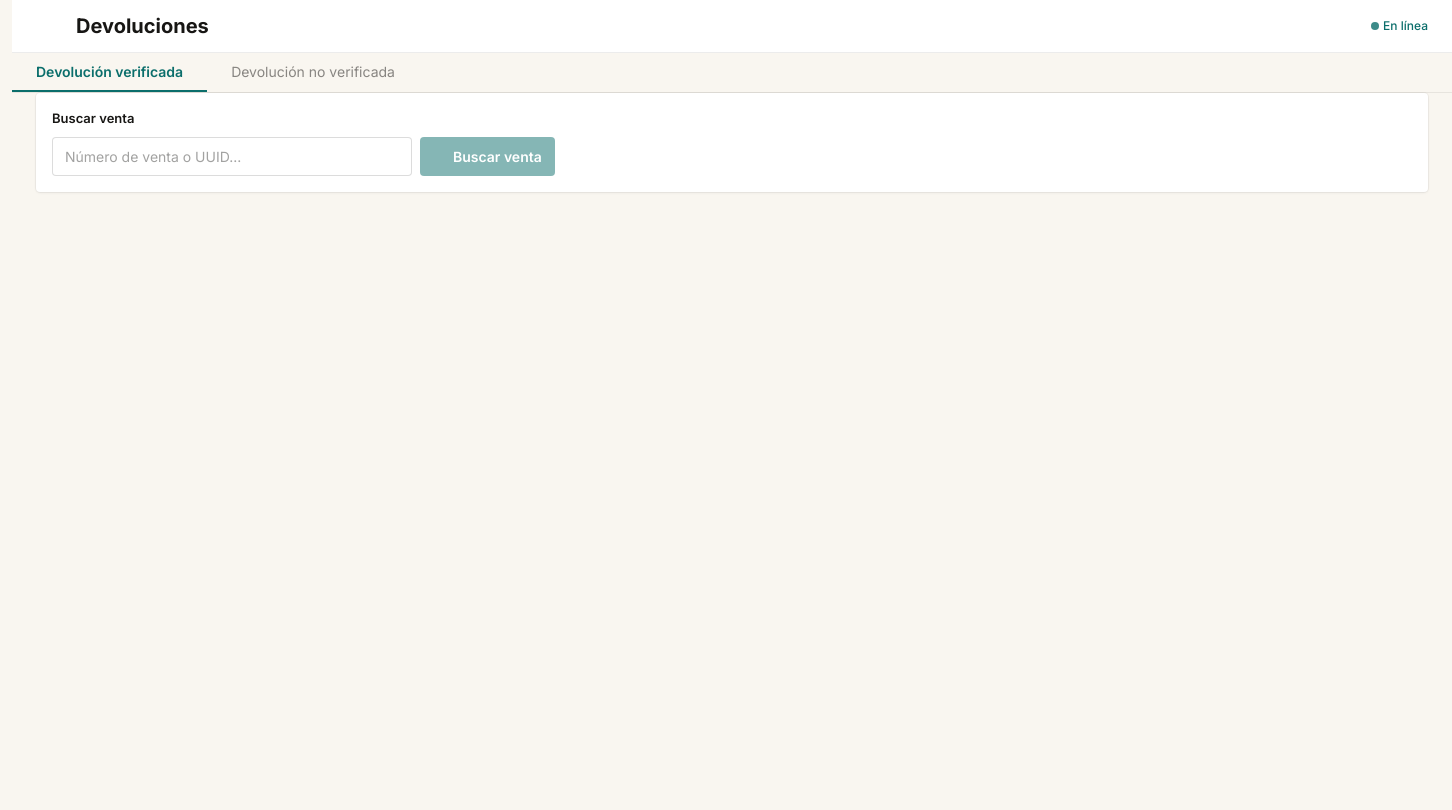
Test: ReturnsPage › RETP-06: unverified requires PIN › disables the submit until a 4-digit PIN is entered
Step 1. Click the tab "Devolución no verificada" → click(313, 72), box [207, 53, 419, 92]
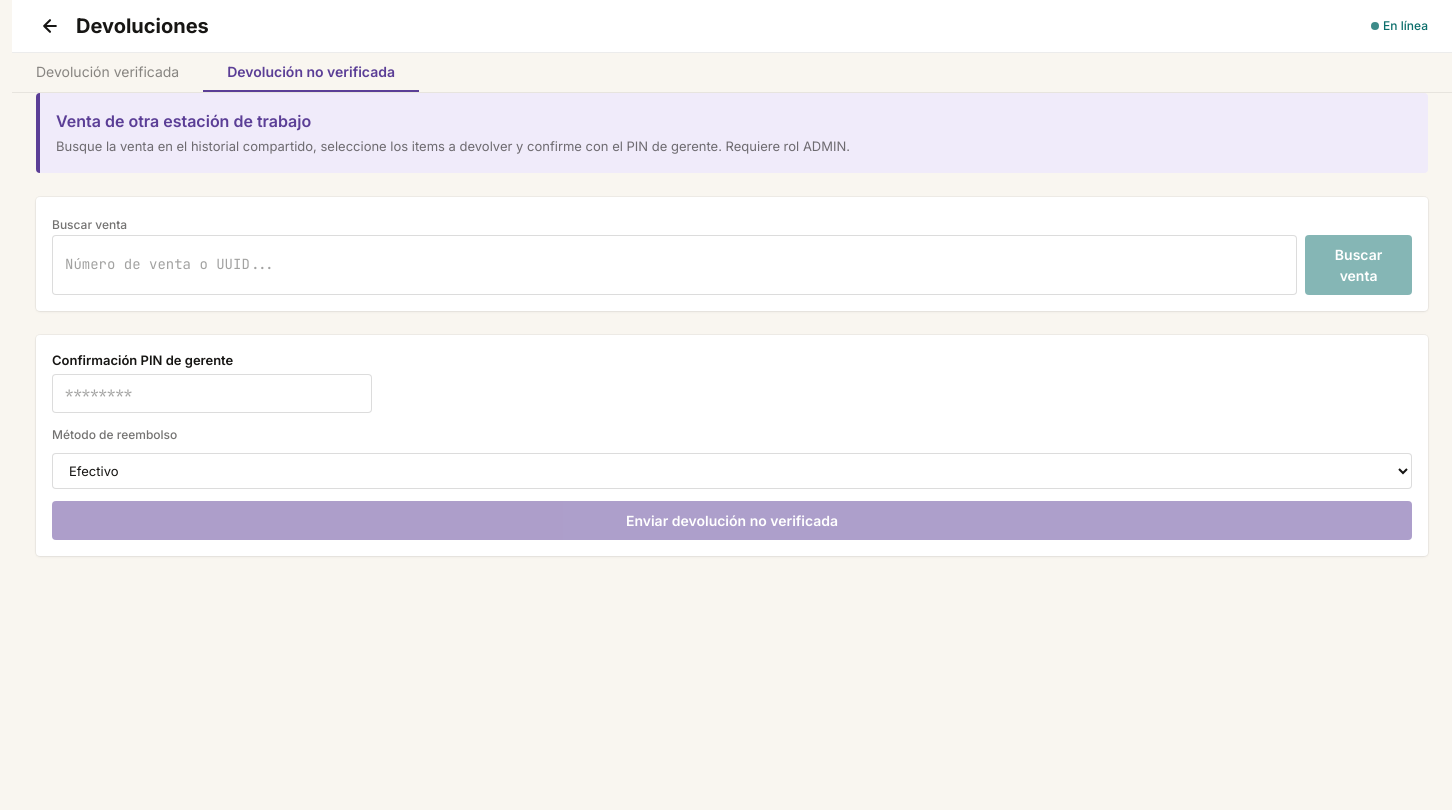
// Find the sale and select its item
Step 2. Type "42" into the field with placeholder "Número de venta o UUID..." → (674, 264), box [52, 234, 1297, 294]
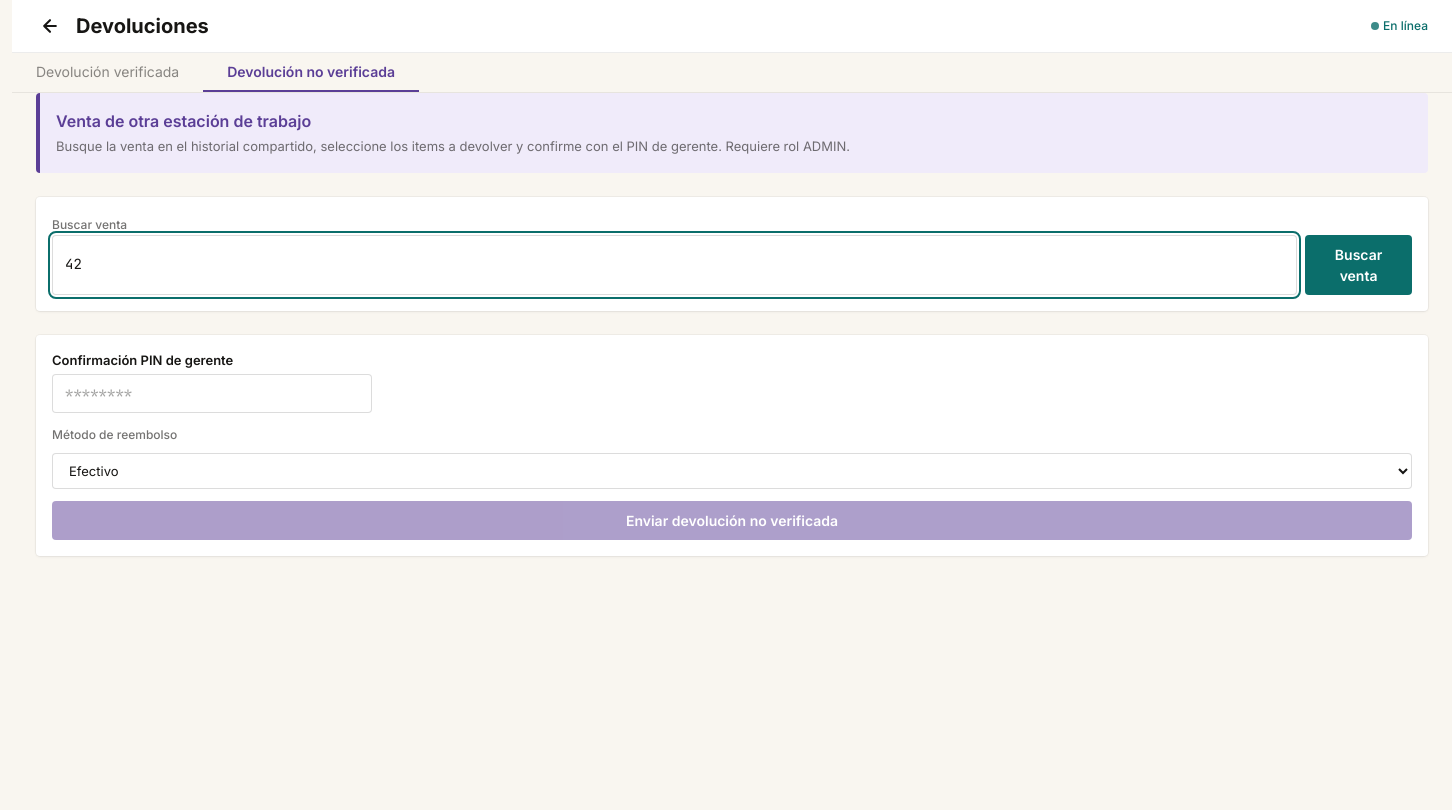
Step 3. Click the button "Buscar venta" → click(1358, 264), box [1305, 234, 1412, 294]
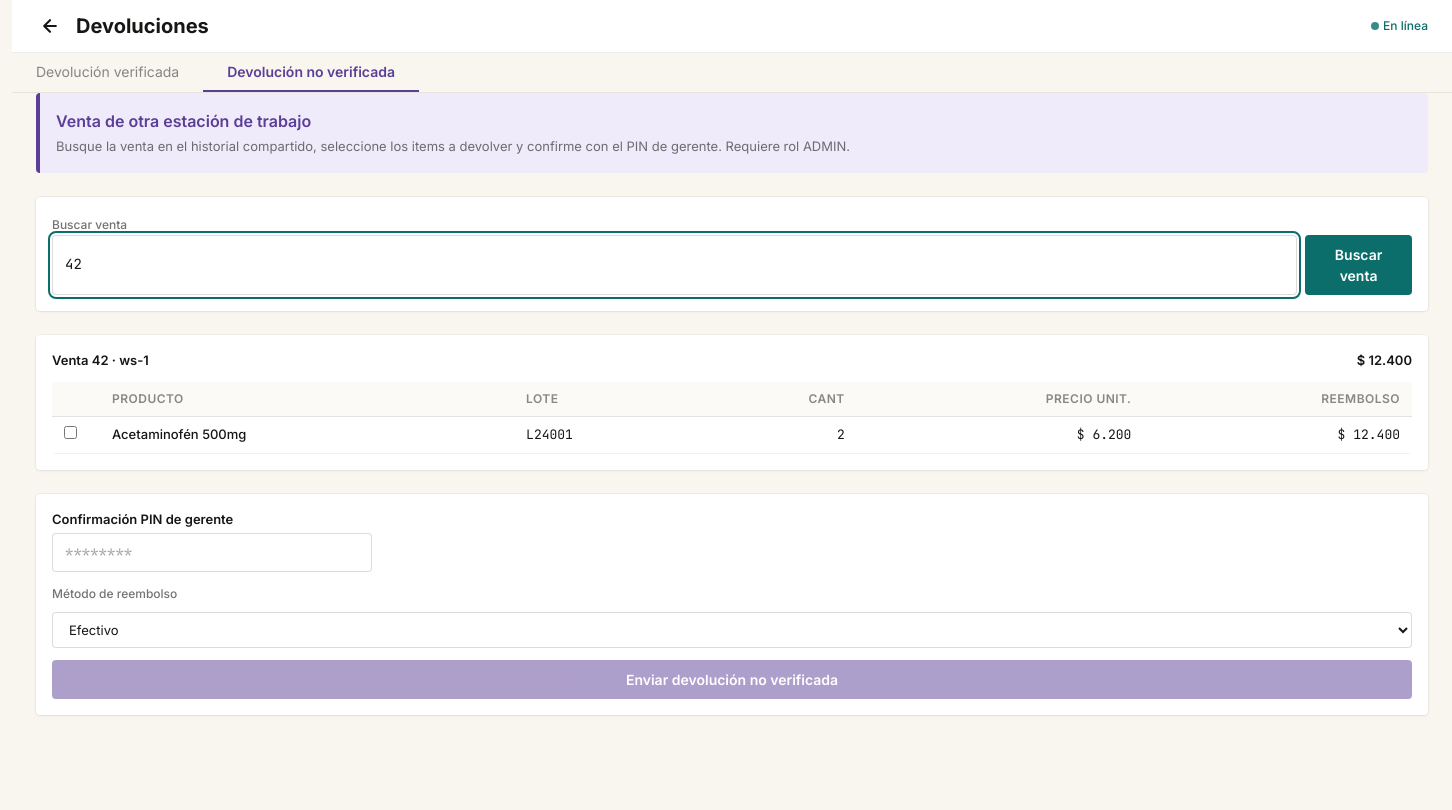
Expected: the checkbox named "Seleccionar item: Acetaminofén 500mg" is shown
Step 4. Click the checkbox named "Seleccionar item: Acetaminofén 500mg" → click(70, 432), box [64, 426, 77, 439]
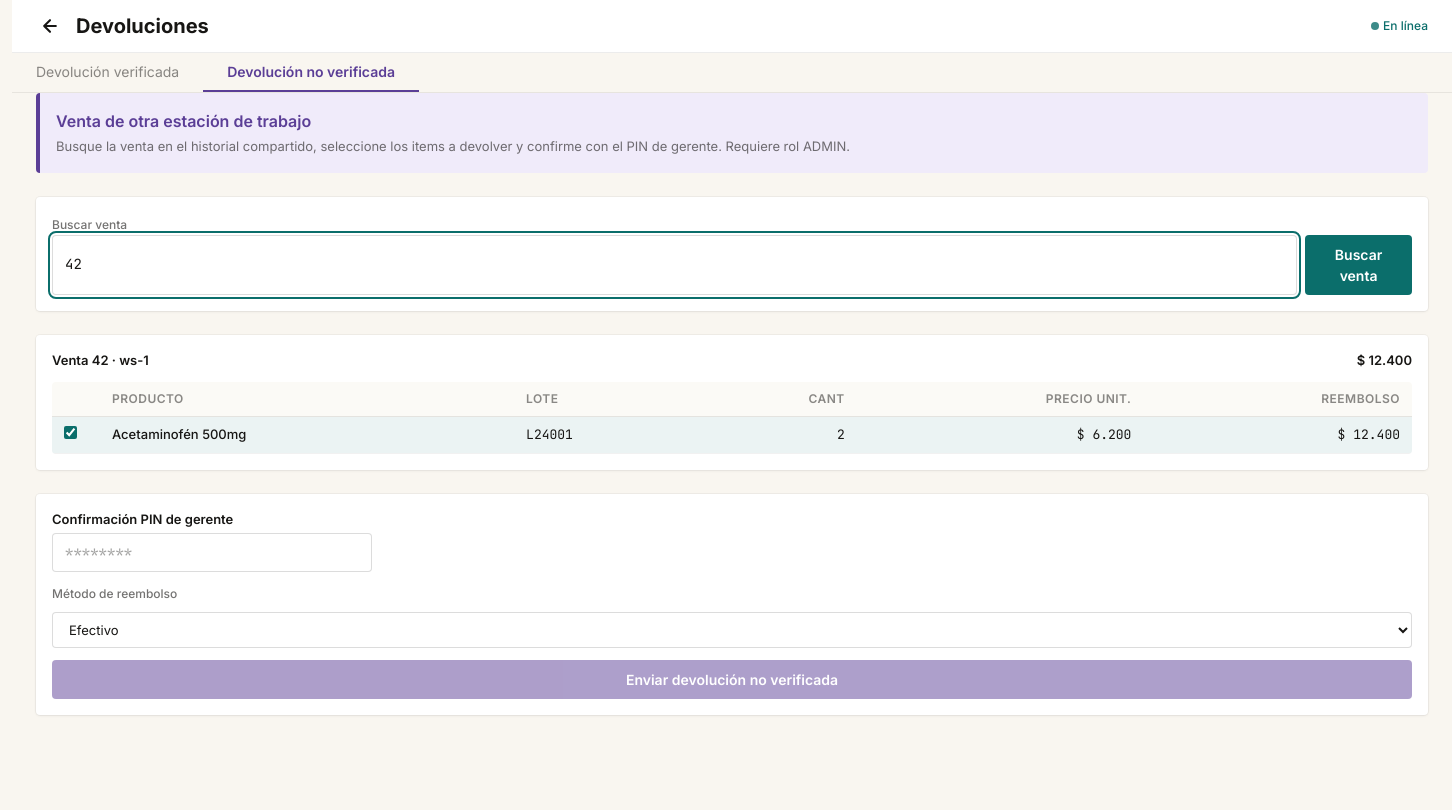
Expected: the button "Enviar devolución no verificada" is disabled, [52, 660, 1412, 699]
Step 5. Type "12" into the password field labelled "Confirmación PIN de gerente" → (212, 552), box [52, 533, 372, 572]
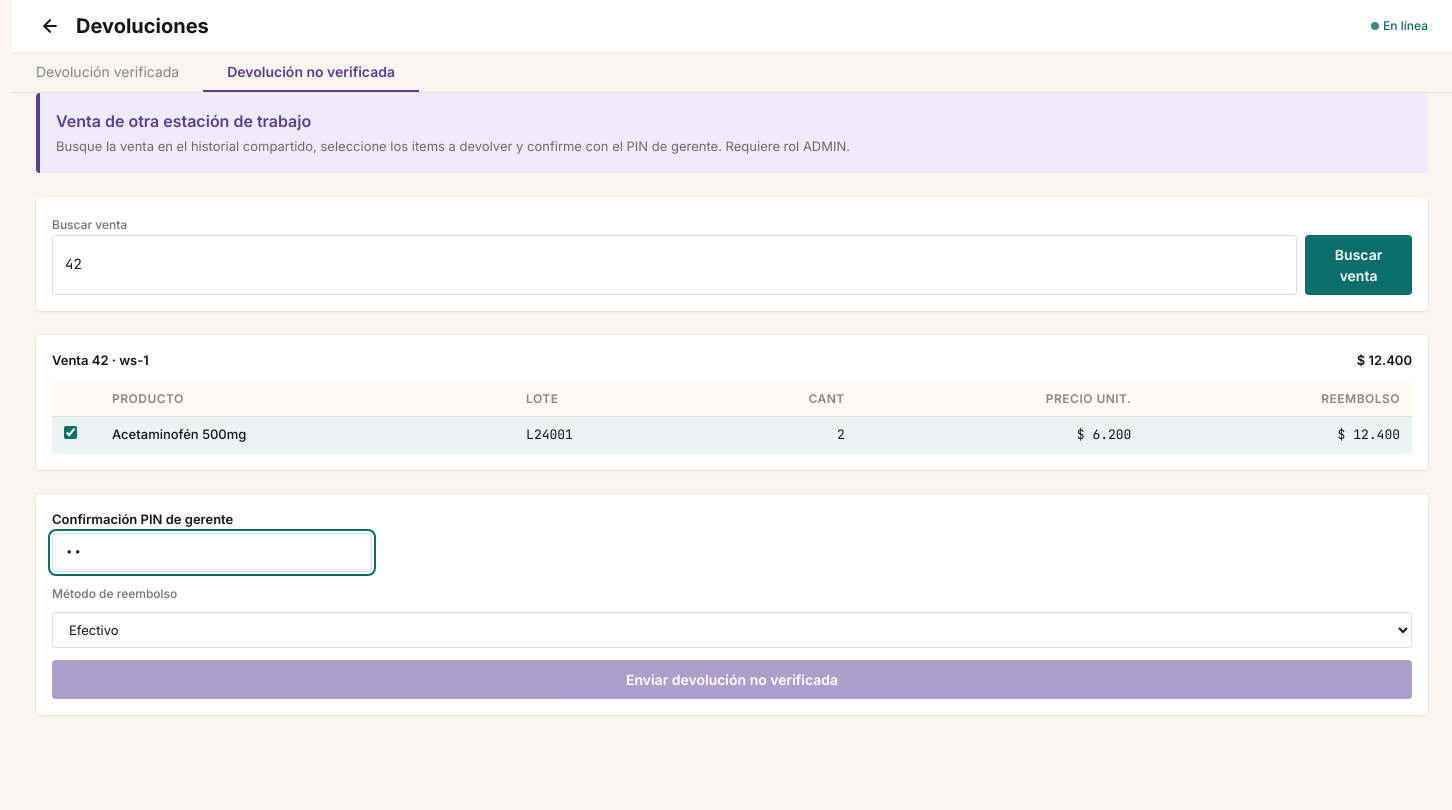
Expected: the button "Enviar devolución no verificada" is disabled, [52, 660, 1412, 699]
// Complete a valid PIN — now enabled
Step 6. Type "3456" into the password field labelled "Confirmación PIN de gerente" → (212, 552), box [52, 533, 372, 572]
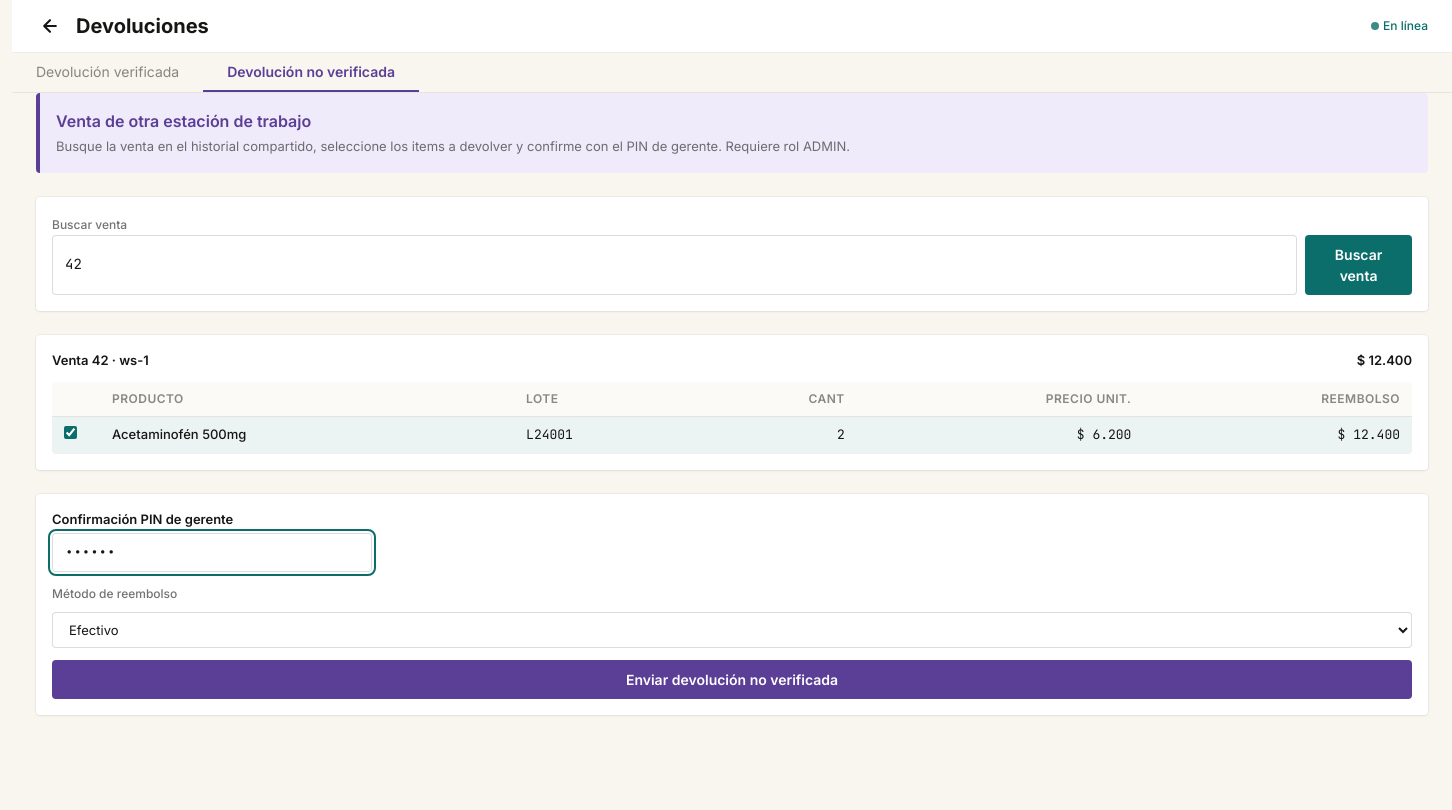
Expected: the button "Enviar devolución no verificada" is enabled, [52, 660, 1412, 699]
